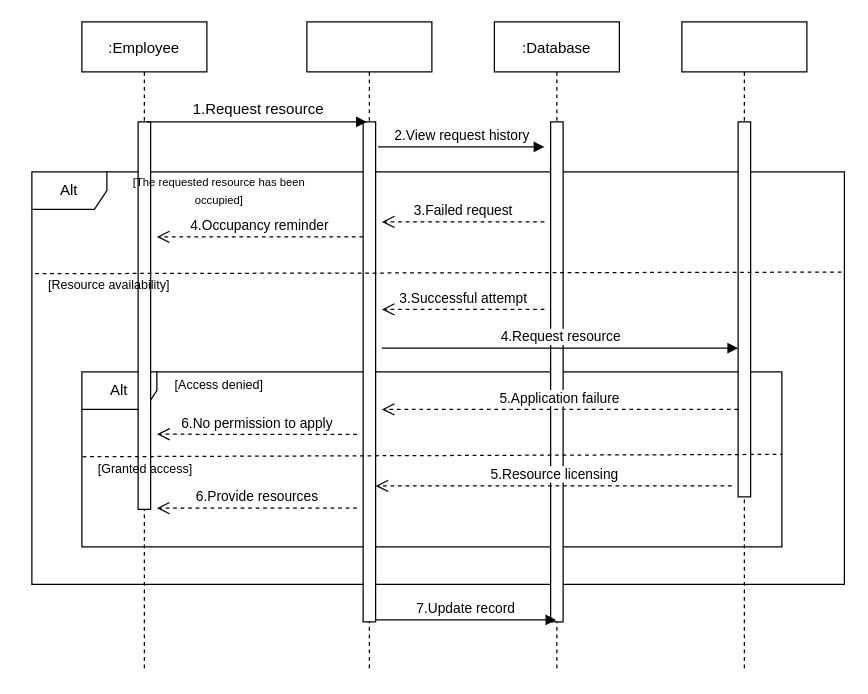
The diagram is 868 pixels wide and 694 high, and some of its shapes have lost their labels. Each missing label, with the box of its shape:
:IT department: (681, 21, 807, 672)
:System: (306, 21, 432, 672)
